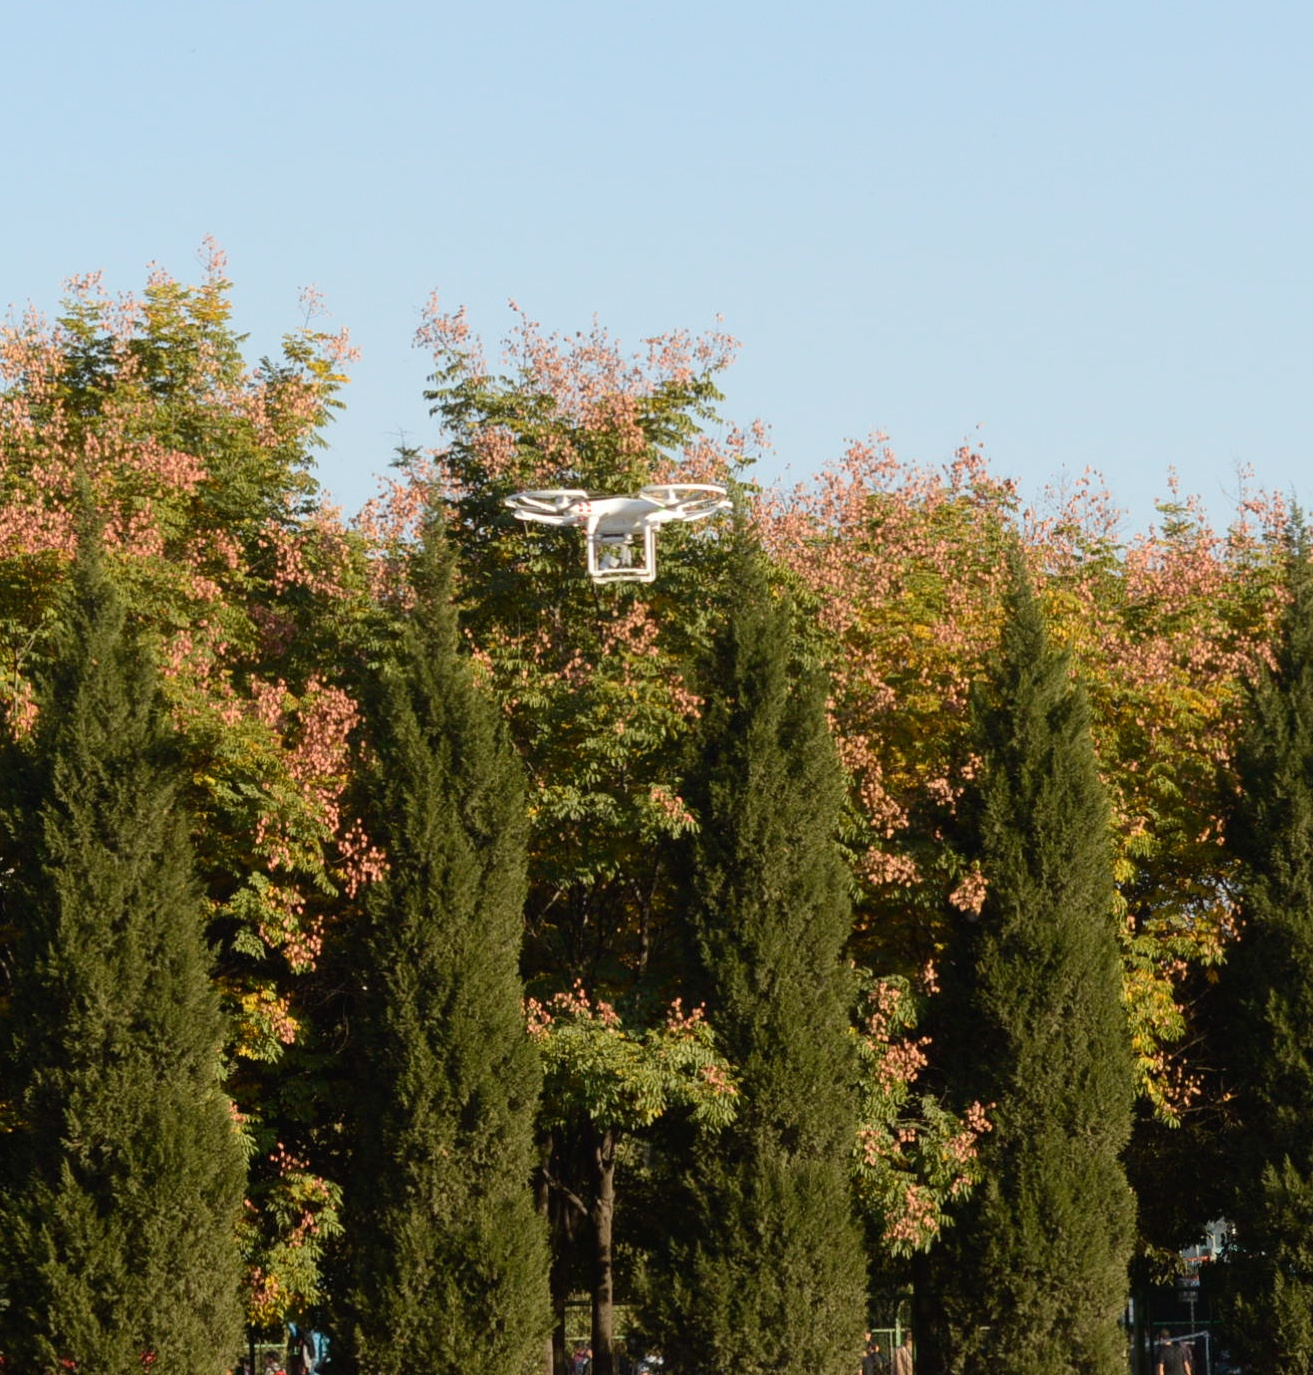DJI: (501, 482, 736, 583)
